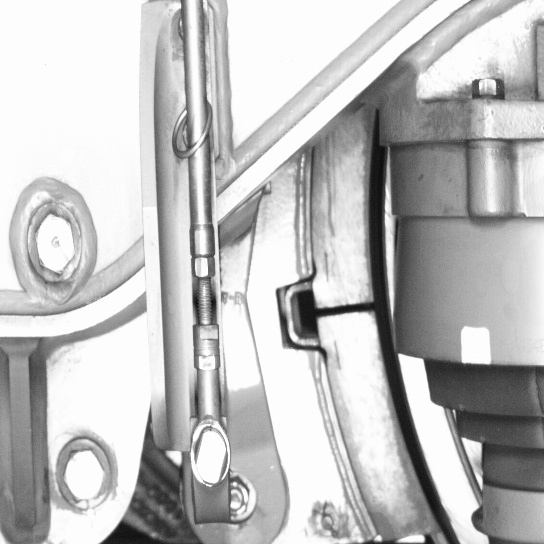KnifeSwitch: (311, 140, 463, 542)
